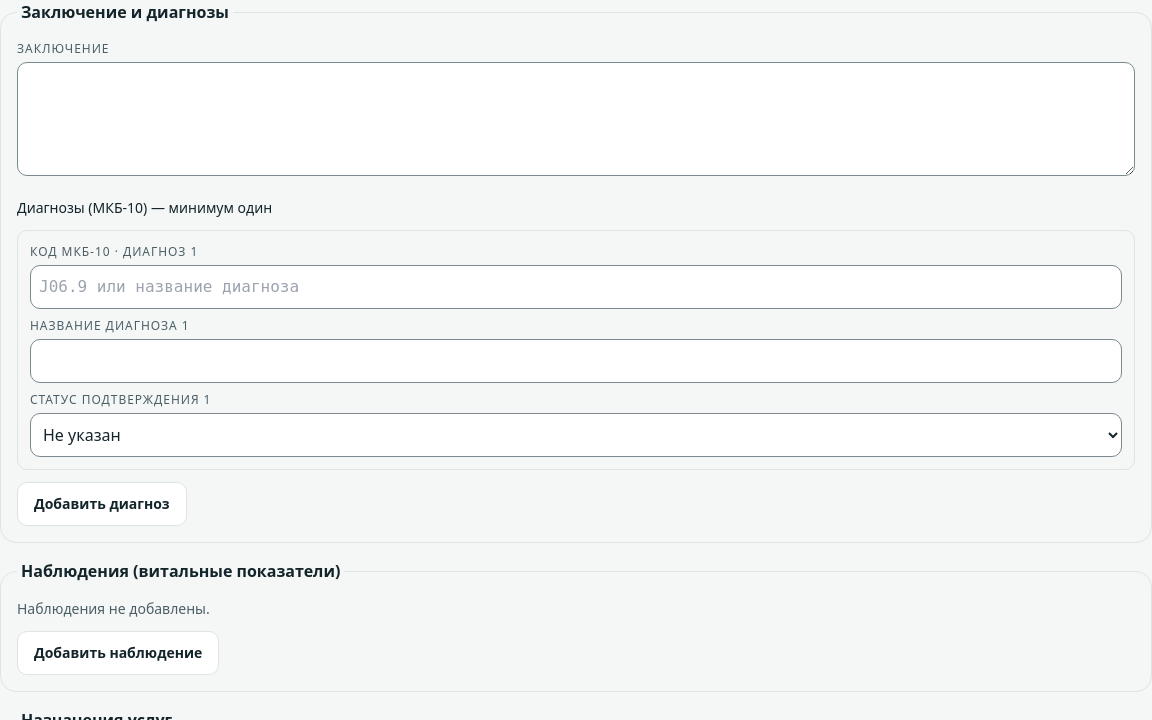
Test: EncounterCompleteForm validation › should block submission when the summary is shorter than three characters
The width and height of the screenshot is (1152, 720).
Type "ОРВИ, состояние удовлетворительное" into the text box labelled "Заключение" at (576, 119), box left=17, top=62, right=1135, bottom=176
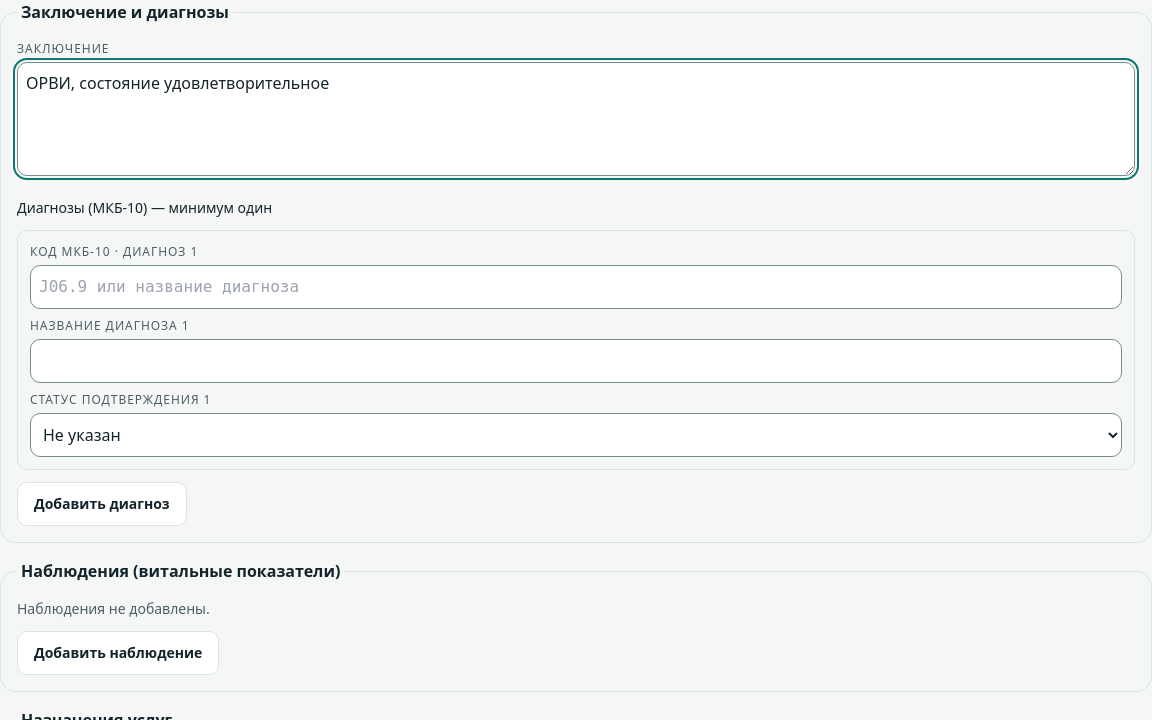
Type "Острый назофарингит" into the field labelled "Название диагноза 1" at (576, 361), box left=30, top=339, right=1122, bottom=383
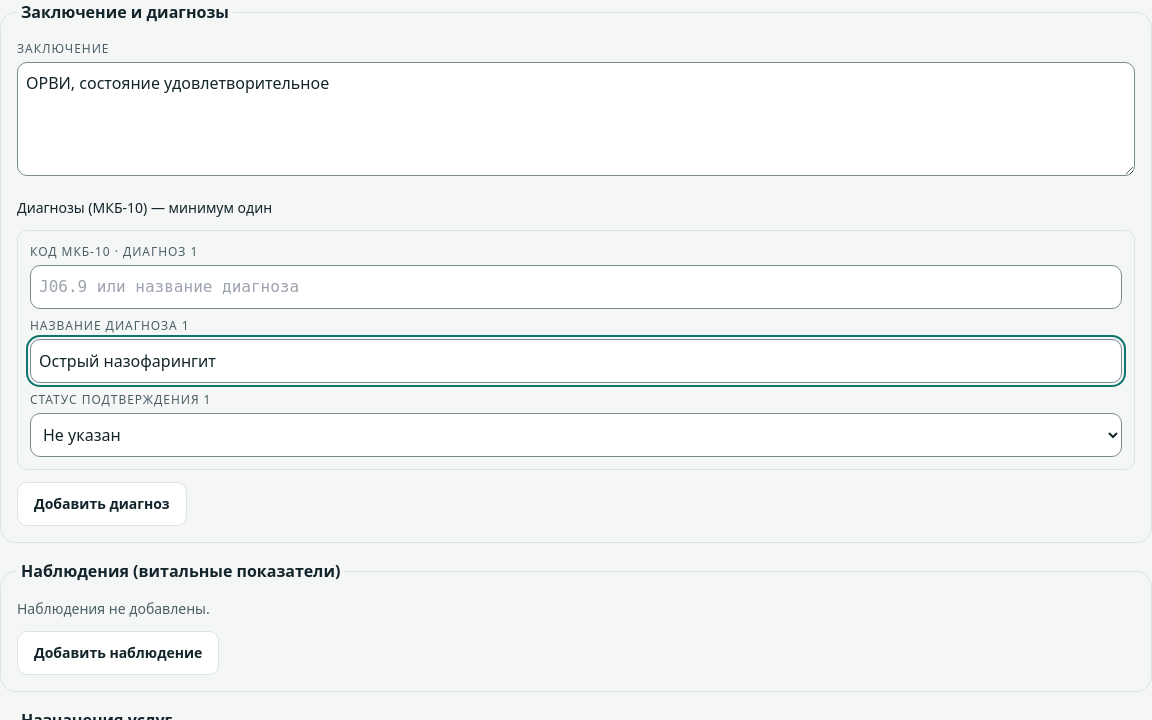
Type "J06.9" into the dropdown labelled "Код МКБ-10 · диагноз 1" at (576, 287), box left=30, top=265, right=1122, bottom=309
(page scrolled)
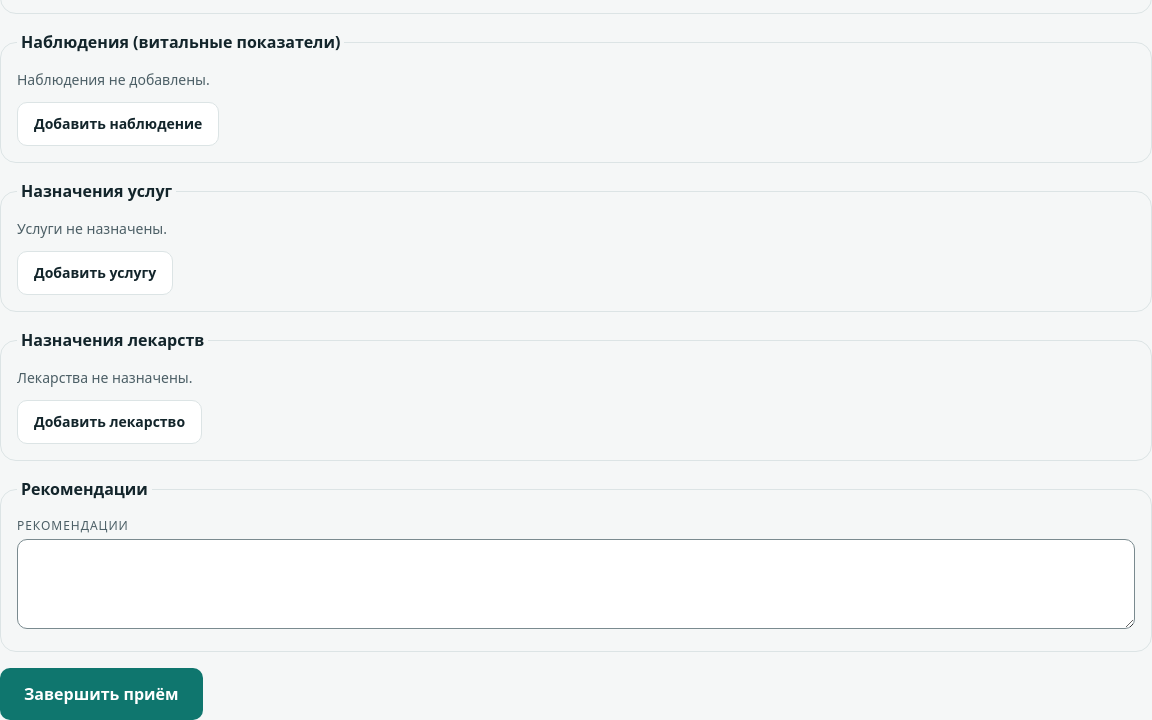
Type "Покой, обильное питьё" into the text box labelled "Рекомендации" at (576, 584), box left=17, top=539, right=1135, bottom=629
(page scrolled)
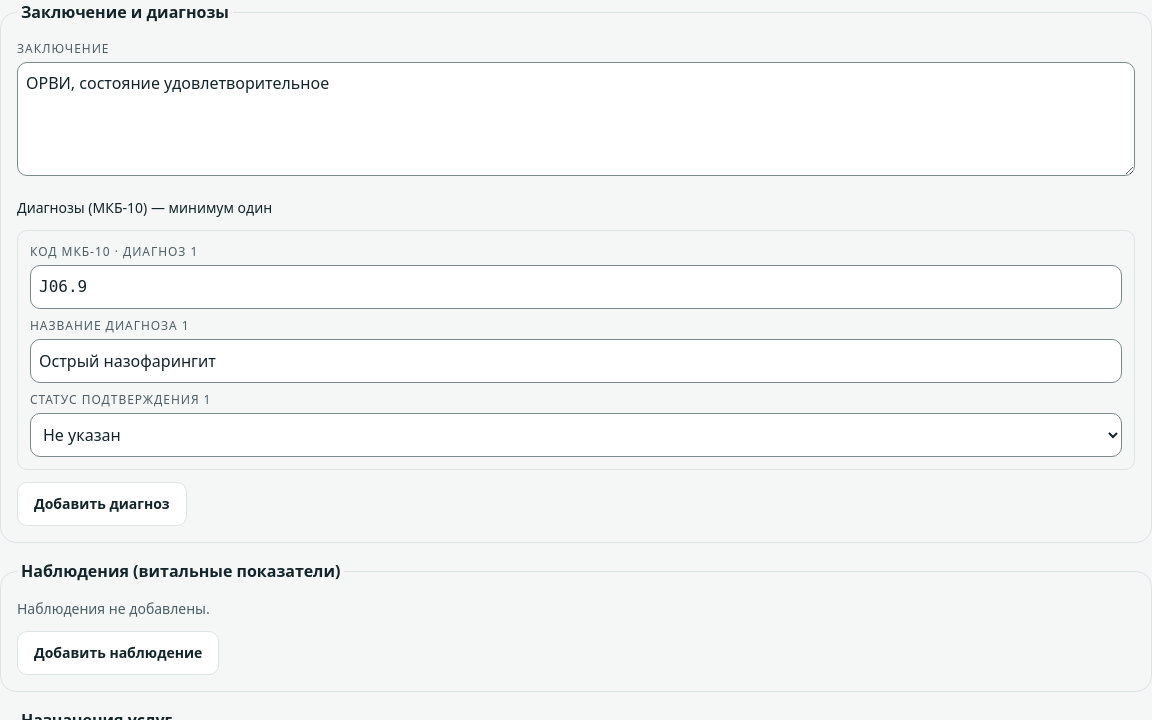
Replace the text in the text box labelled "Заключение" with "ab" at (576, 119), box left=17, top=62, right=1135, bottom=176
(page scrolled)
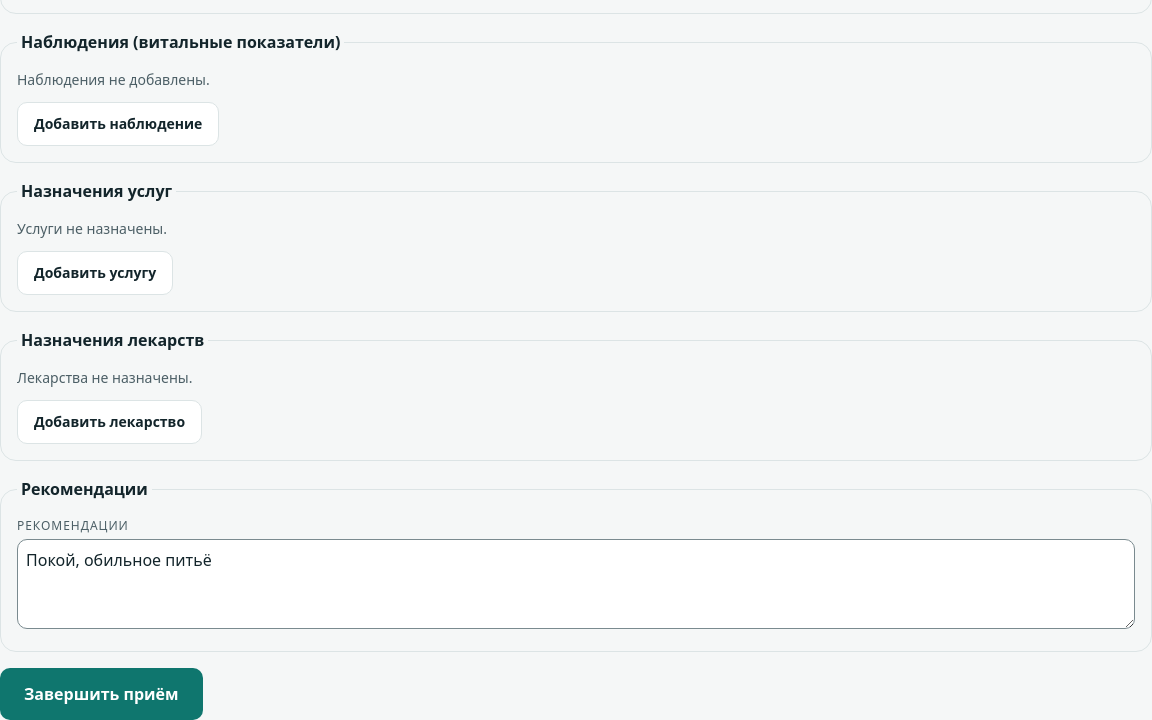
Click the button "Завершить приём" at (101, 694), box left=0, top=668, right=203, bottom=719
(page scrolled)
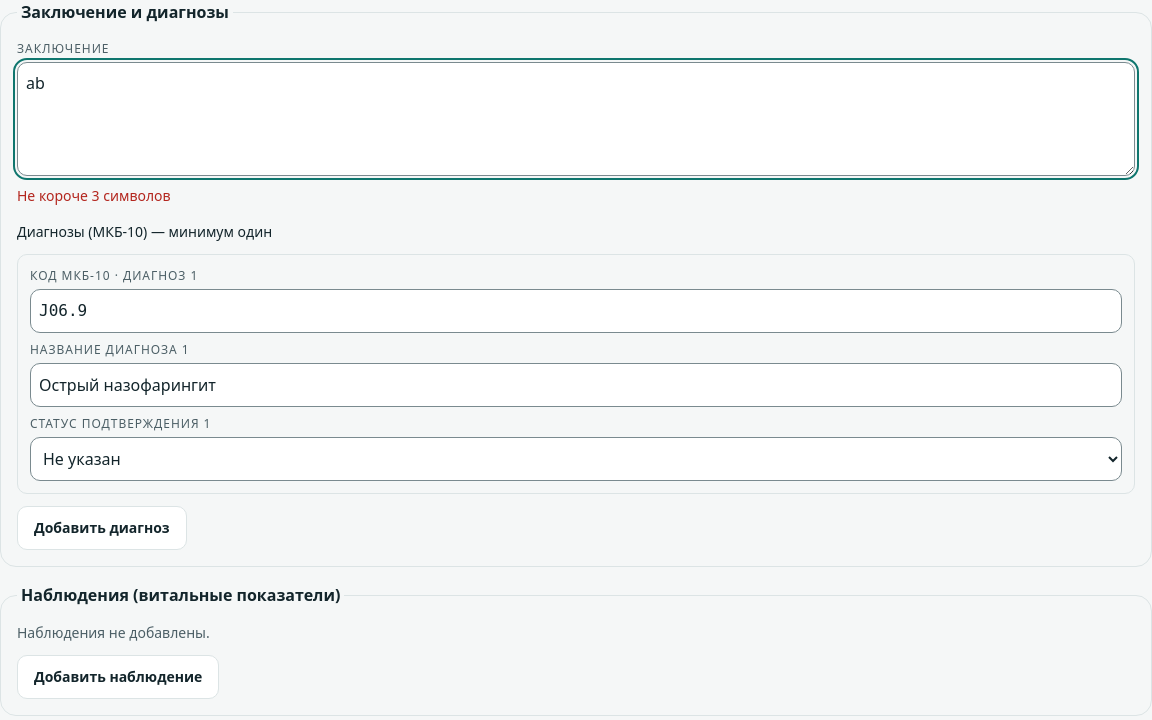
Expected: the text "Не короче 3 символов" is shown, left=17, top=186, right=170, bottom=205
